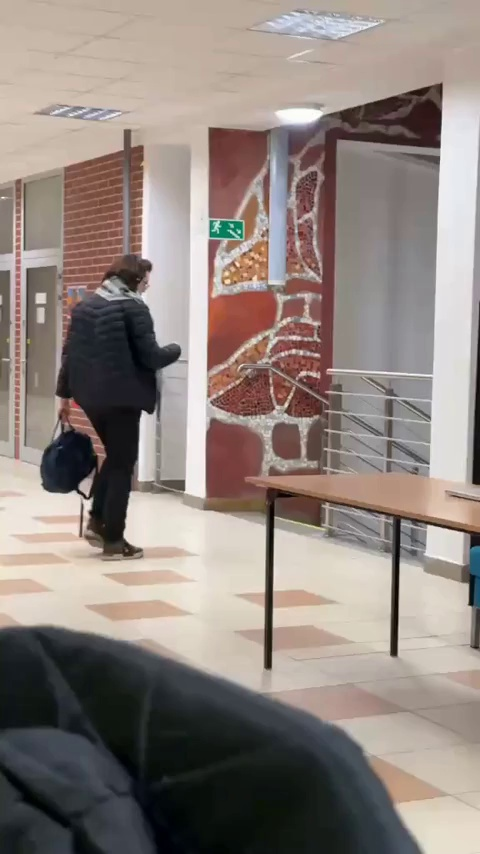no vest: (54, 250, 179, 559)
